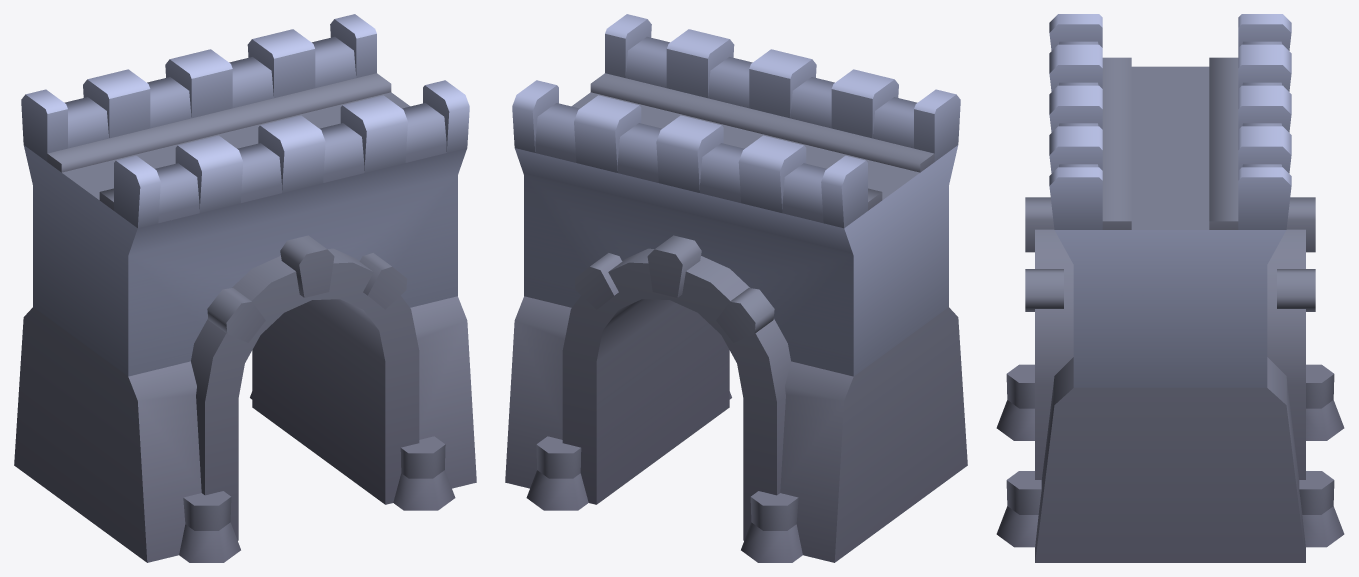
Rendered from castle_gate.glb.
The picture shows the model from 3 angles, left to right: view 1: azimuth 30°, elevation 25°; view 2: azimuth 150°, elevation 25°; view 3: azimuth 270°, elevation 25°; orthographic projection.
Parts seen in each view (by area): view 1: castle-gate; view 2: castle-gate; view 3: castle-gate.
Boxes of the visible parts, left/top/right/bottom form: castle-gate: left=14, top=14, right=476, bottom=562; castle-gate: left=505, top=14, right=967, bottom=562; castle-gate: left=996, top=14, right=1344, bottom=562.
Bounding box in the file's own units: 4 × 4.4 × 3.6.
Materials: 1 (1 with a texture image).
